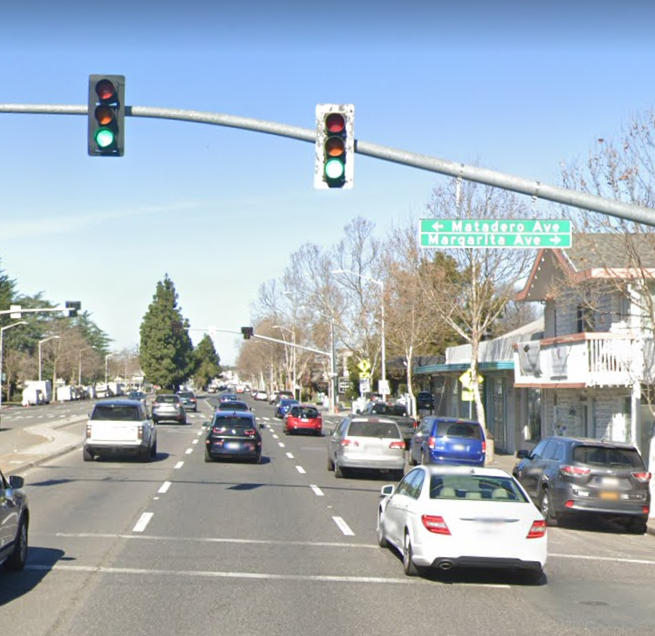green_light: (318, 108, 349, 187), (90, 75, 119, 156)
